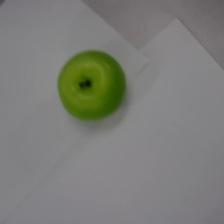green: (58, 50, 126, 120)
